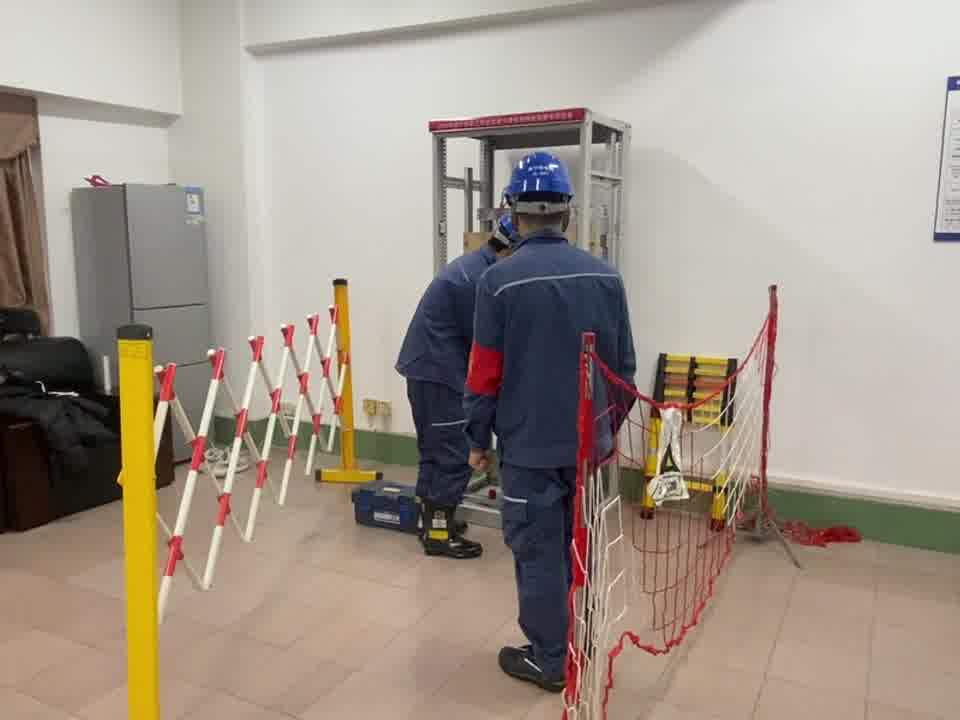badge: (465, 342, 507, 398)
downsuit: (499, 473, 579, 667), (406, 387, 470, 515)
halt: (504, 149, 578, 241)
hand: (466, 445, 498, 474)
person: (466, 148, 650, 689), (394, 213, 513, 561)
shoe: (416, 502, 486, 561)
upsuit: (469, 236, 640, 461), (396, 232, 497, 393)
